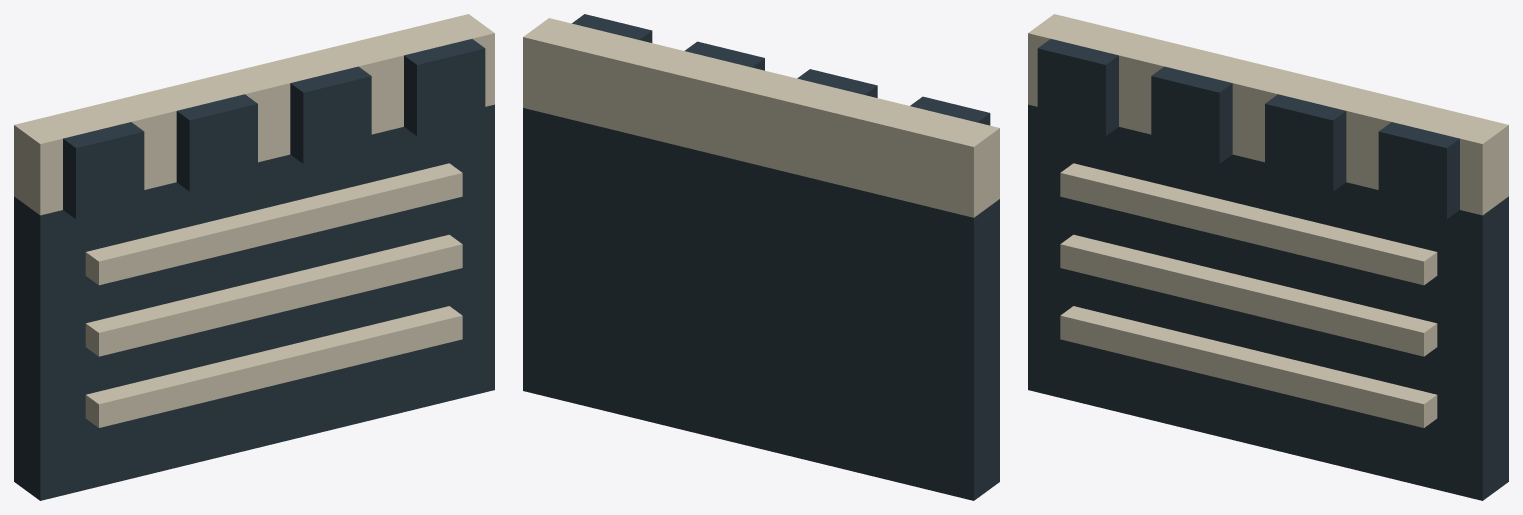
The model's file is film-03.glb.
3 views of the same model, side by side, from view 1: azimuth 30°, elevation 25°; view 2: azimuth 150°, elevation 25°; view 3: azimuth 330°, elevation 25° (orthographic).
Parts seen in each view (by area): view 1: Clapperboard; view 2: Clapperboard; view 3: Clapperboard.
Boxes of the visible parts, box(x1,y1,x2,y2) form: Clapperboard: box(14, 14, 494, 500); Clapperboard: box(523, 14, 999, 500); Clapperboard: box(1028, 14, 1508, 500).
Bounding box in the file's own units: 1.6 × 1.2 × 0.24.
